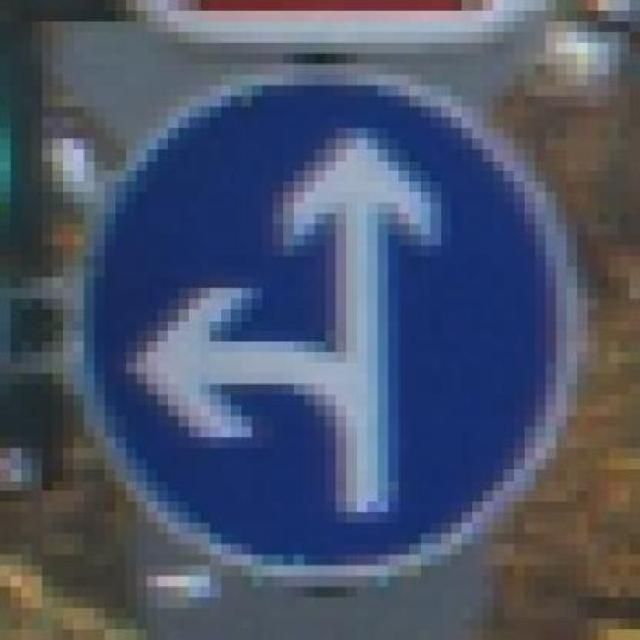Go straight or turn left: (52, 53, 598, 598)
